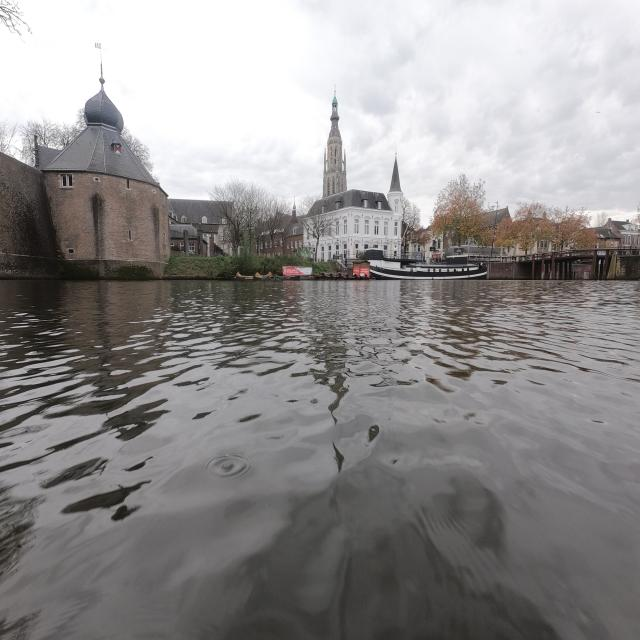boat: (362, 260, 486, 278)
grass: (168, 254, 240, 276)
sky: (0, 4, 638, 224)
wall: (0, 72, 172, 276), (488, 262, 530, 279)
water: (4, 288, 638, 634)
